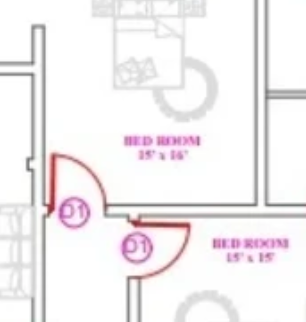door: (120, 202, 204, 288), (46, 144, 112, 235)
